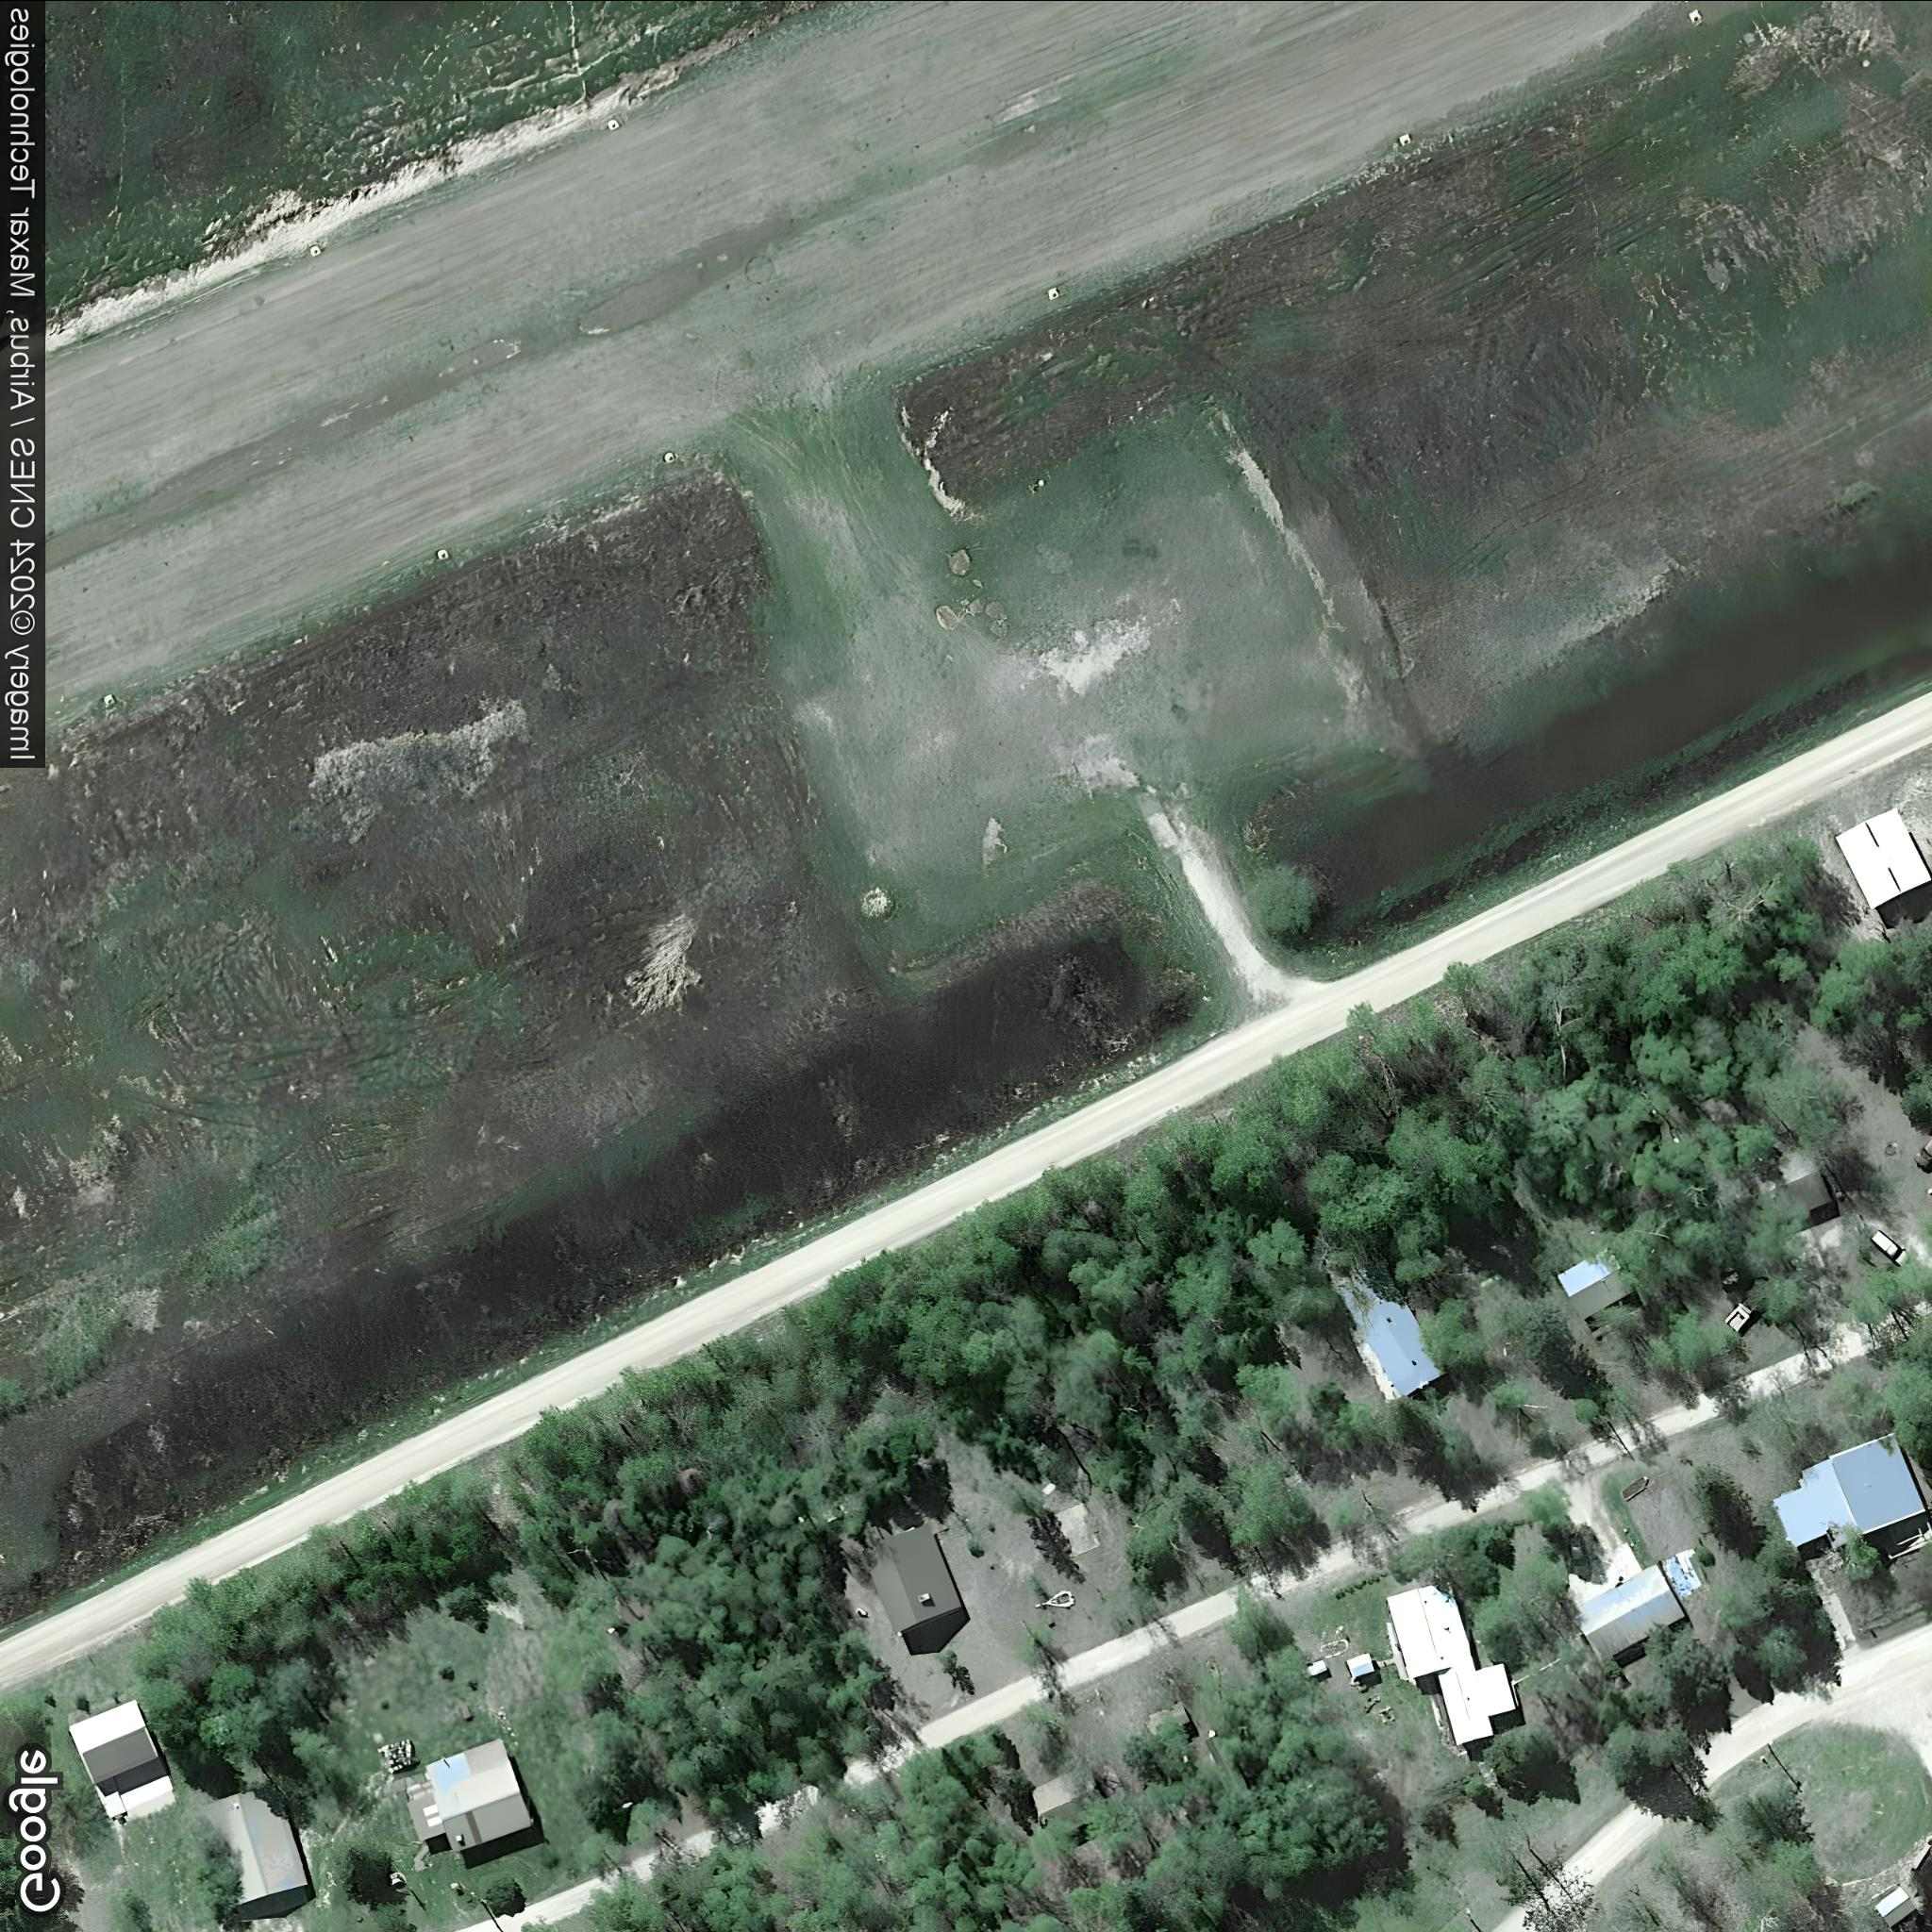Garage: (198, 1778, 310, 1909), (1571, 1560, 1686, 1665), (1833, 805, 1932, 911), (64, 1695, 161, 1789), (1030, 1762, 1111, 1842), (1555, 1244, 1637, 1322)
House: (1385, 1578, 1516, 1746), (1769, 1430, 1927, 1550), (1336, 1260, 1447, 1401), (423, 1734, 534, 1854), (858, 1522, 962, 1637), (1714, 1143, 1833, 1238)
